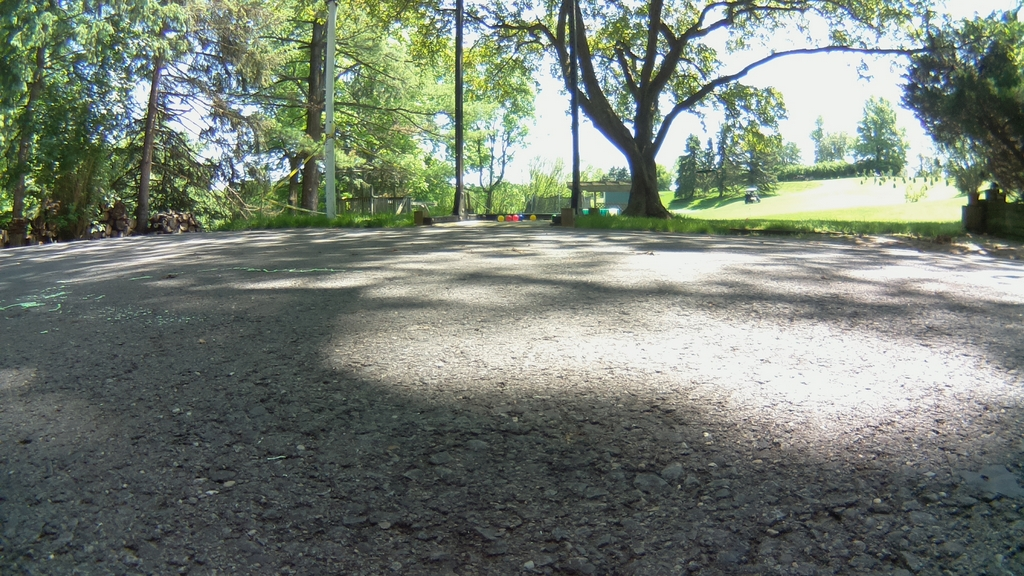ball: (519, 213, 522, 221)
